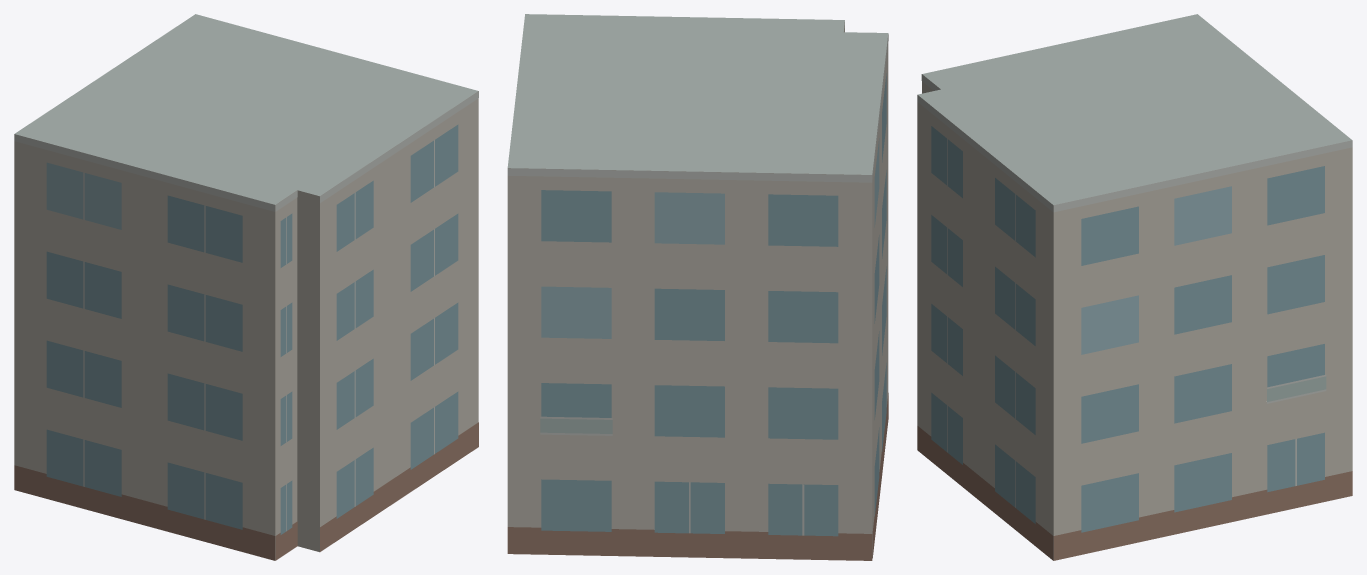
File: survey-upis-32809326.glb
The picture shows the model from 3 angles, left to right: view 1: azimuth 30°, elevation 25°; view 2: azimuth 150°, elevation 25°; view 3: azimuth 270°, elevation 25°; orthographic projection. The views are drawn at different scales.
Parts seen in each view (by area): view 1: survey-upis-32809326.tmp; view 2: survey-upis-32809326.tmp; view 3: survey-upis-32809326.tmp.
Boxes of the visible parts, <box> form: survey-upis-32809326.tmp: <box>14,14,478,560</box>; survey-upis-32809326.tmp: <box>507,14,888,560</box>; survey-upis-32809326.tmp: <box>917,14,1352,560</box>.
Size of the model in its own units: 14.02 by 12.15 by 13.48.
